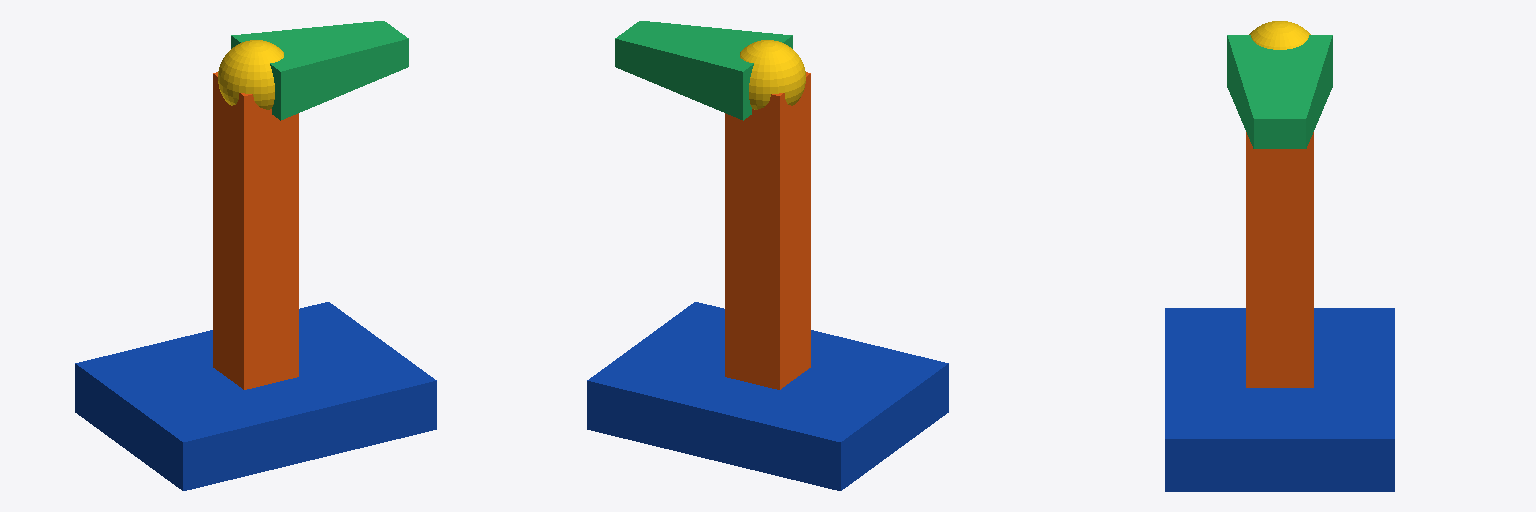
robot.urdf — urdf_transform_demo:
<?xml version="1.0"?>
<robot name="urdf_transform_demo">
  <material name="base_blue">
    <color rgba="0.12 0.35 0.75 1"/>
  </material>
  <material name="arm_orange">
    <color rgba="0.95 0.42 0.12 1"/>
  </material>
  <material name="tool_green">
    <color rgba="0.18 0.72 0.42 1"/>
  </material>
  <material name="marker_yellow">
    <color rgba="1 0.82 0.12 1"/>
  </material>

  <link name="base_link">
    <visual name="base_visual">
      <origin xyz="0 0 0.06" rpy="0 0 0"/>
      <geometry>
        <box size="0.65 0.48 0.12"/>
      </geometry>
      <material name="base_blue"/>
    </visual>
    <collision name="base_collision">
      <origin xyz="0 0 0.06" rpy="0 0 0"/>
      <geometry>
        <box size="0.65 0.48 0.12"/>
      </geometry>
    </collision>
  </link>

  <link name="arm_link">
    <visual name="arm_mesh">
      <origin xyz="0 0 0" rpy="0 0 0"/>
      <geometry>
        <mesh filename="meshes/demo-arm.obj" scale="1 1 1"/>
      </geometry>
      <material name="arm_orange"/>
    </visual>
    <visual name="arm_tip_marker">
      <origin xyz="0 0 0.72" rpy="0 0 0"/>
      <geometry>
        <sphere radius="0.085"/>
      </geometry>
      <material name="marker_yellow"/>
    </visual>
    <collision name="arm_collision">
      <origin xyz="0 0 0.36" rpy="0 0 0"/>
      <geometry>
        <box size="0.15 0.15 0.72"/>
      </geometry>
    </collision>
  </link>

  <joint name="shoulder_joint" type="revolute">
    <origin xyz="0 0 0.12" rpy="0 0 0"/>
    <parent link="base_link"/>
    <child link="arm_link"/>
    <axis xyz="0 0 1"/>
    <limit lower="-1.57" upper="1.57" effort="20" velocity="2"/>
  </joint>

  <link name="tool_link">
    <visual name="tool_mesh">
      <origin xyz="0 0 0" rpy="0 0 0"/>
      <geometry>
        <mesh filename="meshes/demo-tool.obj" scale="1 1 1"/>
      </geometry>
      <material name="tool_green"/>
    </visual>
    <collision name="tool_collision">
      <origin xyz="0.18 0 0" rpy="0 0 0"/>
      <geometry>
        <box size="0.36 0.22 0.12"/>
      </geometry>
    </collision>
  </link>

  <joint name="tool_slide_joint" type="prismatic">
    <origin xyz="0 0 0.72" rpy="0 0 0"/>
    <parent link="arm_link"/>
    <child link="tool_link"/>
    <axis xyz="1 0 0"/>
    <limit lower="0" upper="0.35" effort="15" velocity="0.5"/>
  </joint>
</robot>

--- Render facts (derived) ---
Views: 3 orthographic renders of the robot side by side, from view 1: azimuth 30°, elevation 25°; view 2: azimuth 150°, elevation 25°; view 3: azimuth 270°, elevation 25°.
Model urdf_transform_demo with 3 links and 2 joints (1 revolute, 1 prismatic), rooted at base_link, posed all joints at 0.
Visible links, largest first — view 1: base_link, arm_link, tool_link; view 2: base_link, arm_link, tool_link; view 3: base_link, arm_link, tool_link.
Boxes of the visible links, x1,y1,x2,y2 form: base_link: (75,302,436,490); arm_link: (213,40,298,389); tool_link: (231,21,408,120); base_link: (587,302,948,490); arm_link: (725,40,810,389); tool_link: (615,21,792,120); base_link: (1165,308,1394,491); arm_link: (1246,21,1313,387); tool_link: (1227,35,1332,148).
Size in the robot's own frame: 0.685 by 0.48 by 0.925 metres.
Meshes: 2 distinct files referenced, 2 mesh visuals loaded (2 OBJ).
